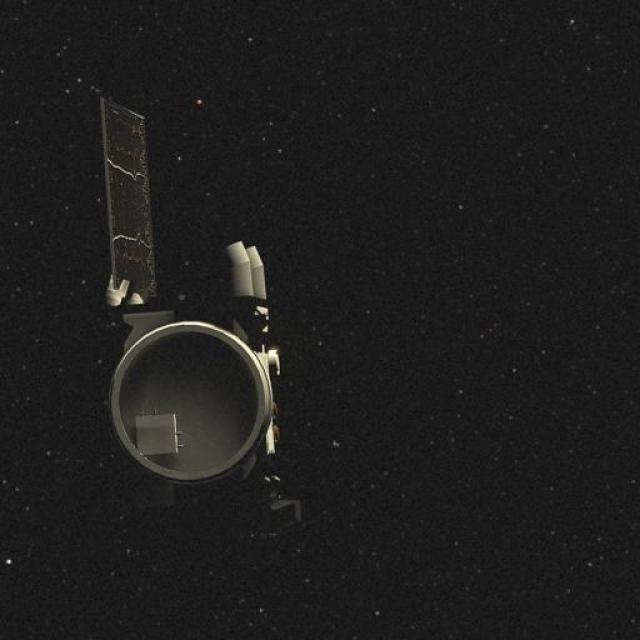proba_3_csc: (60, 61, 345, 580)
